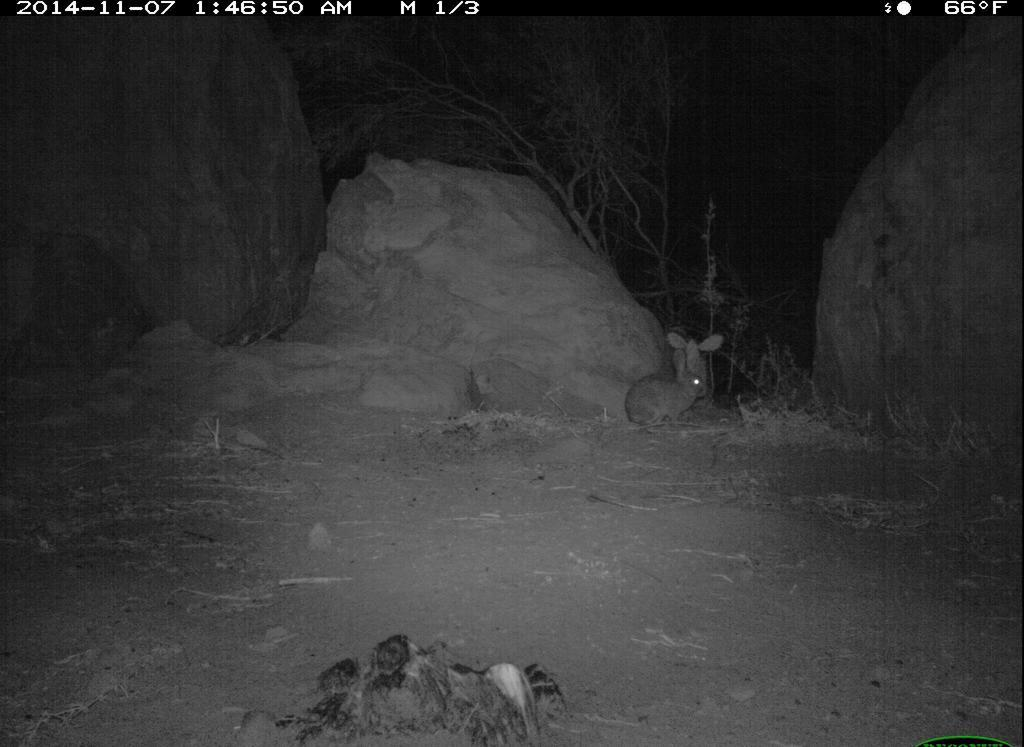rabbit: (612, 347, 713, 434)
